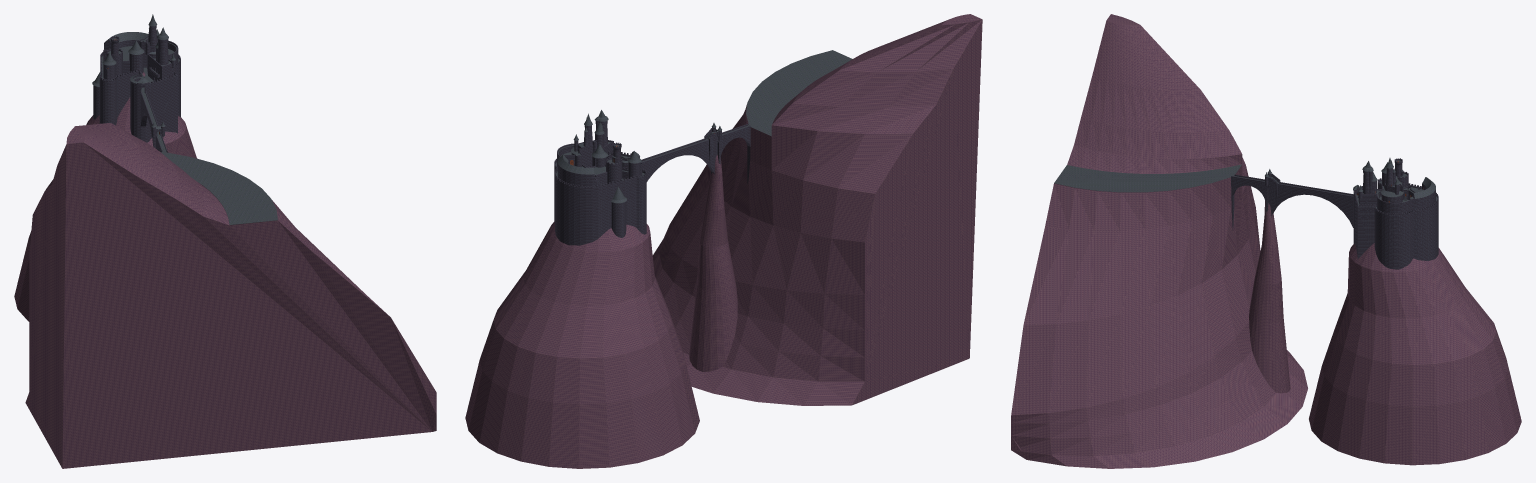
File: ironbanecastle.obj
The picture shows the model from 3 angles, left to right: view 1: azimuth 30°, elevation 25°; view 2: azimuth 150°, elevation 25°; view 3: azimuth 270°, elevation 25°; orthographic projection. The views are drawn at different scales.
Visible parts, largest first — view 1: Object006, Object002, Object008, Object003, Object004; view 2: Object006, Object002, Object008, Object003; view 3: Object006, Object002, Object008, Object003.
Part boxes in pixels (x1=…): Object006: x1=14, y1=72, x2=436, y2=468; Object002: x1=93, y1=26, x2=180, y2=152; Object008: x1=161, y1=152, x2=277, y2=224; Object003: x1=92, y1=14, x2=175, y2=129; Object004: x1=101, y1=37, x2=179, y2=152; Object006: x1=465, y1=14, x2=982, y2=468; Object002: x1=554, y1=121, x2=750, y2=245; Object008: x1=746, y1=50, x2=852, y2=136; Object003: x1=557, y1=110, x2=721, y2=203; Object006: x1=1011, y1=14, x2=1521, y2=468; Object002: x1=1231, y1=158, x2=1438, y2=269; Object008: x1=1054, y1=164, x2=1241, y2=192; Object003: x1=1265, y1=158, x2=1435, y2=198.
Size of the model in its own units: 464 by 432 by 660.
